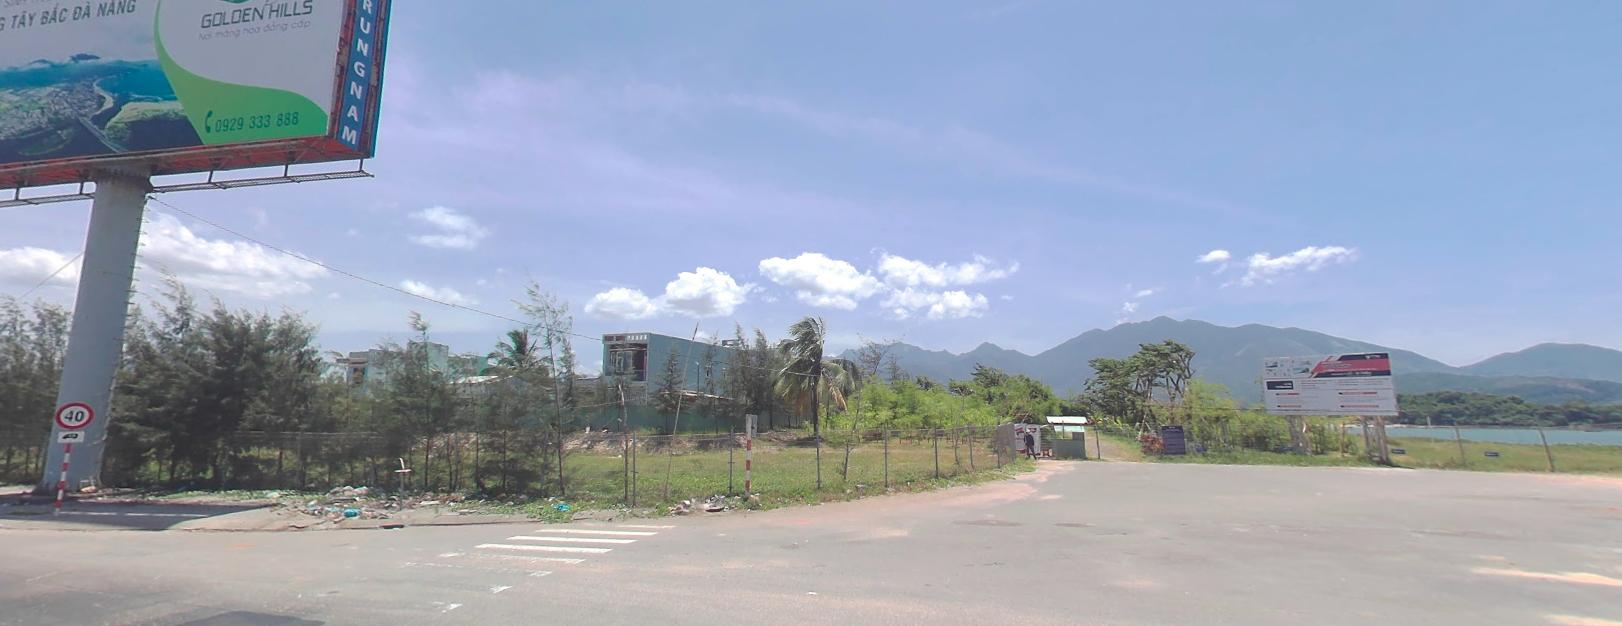Gioi han toc do: (54, 399, 93, 428)
